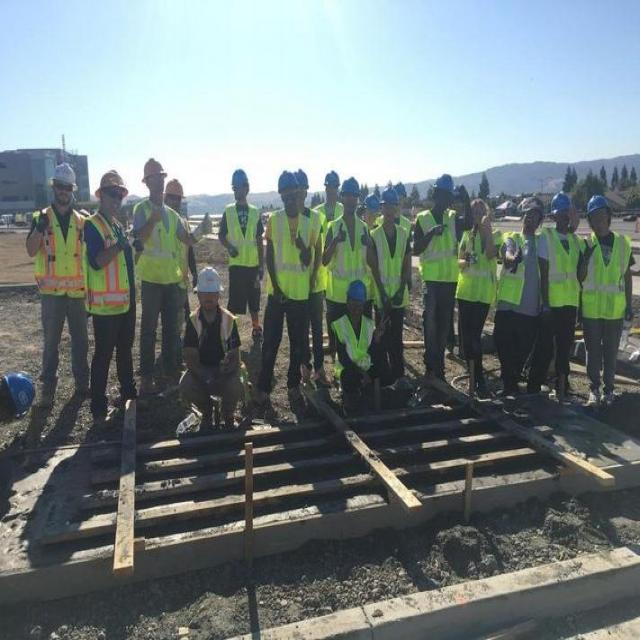Reflective-Jacket: (578, 232, 634, 324), (33, 206, 85, 302), (84, 213, 132, 317), (266, 209, 316, 305), (137, 204, 184, 286), (371, 218, 413, 308), (544, 232, 583, 310), (223, 204, 261, 269)
Safety-Helmet: (96, 167, 128, 196), (275, 166, 307, 194), (49, 160, 78, 187), (195, 266, 222, 294), (140, 154, 168, 180), (584, 191, 613, 216), (548, 190, 574, 215), (431, 170, 457, 194), (338, 173, 361, 196), (380, 186, 400, 207)
